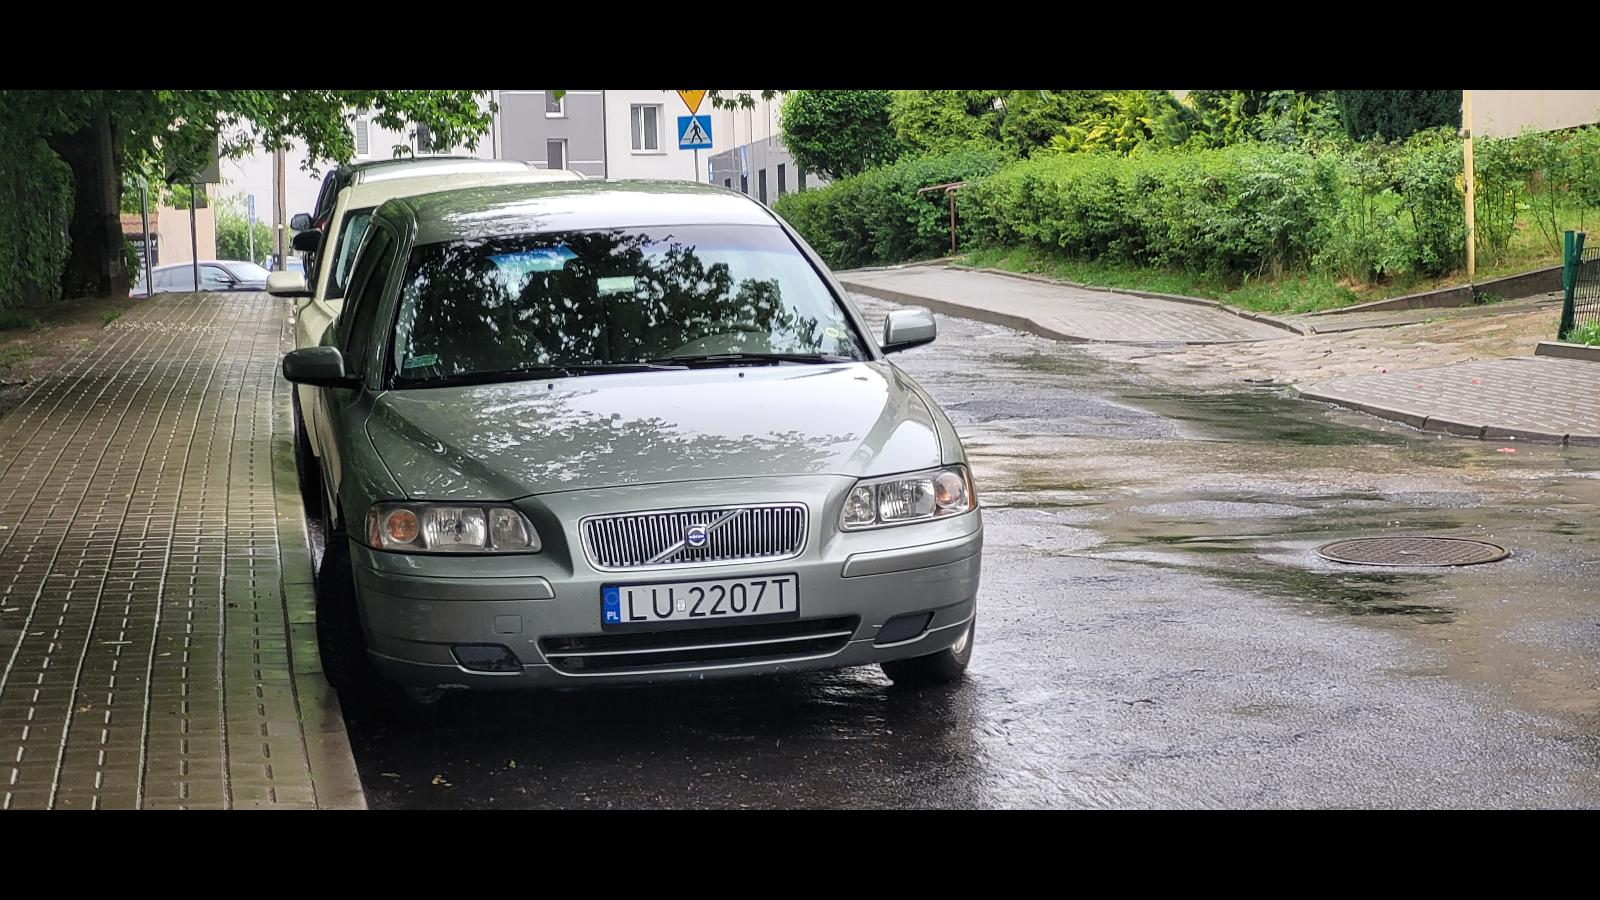plates: (600, 570, 800, 632)
